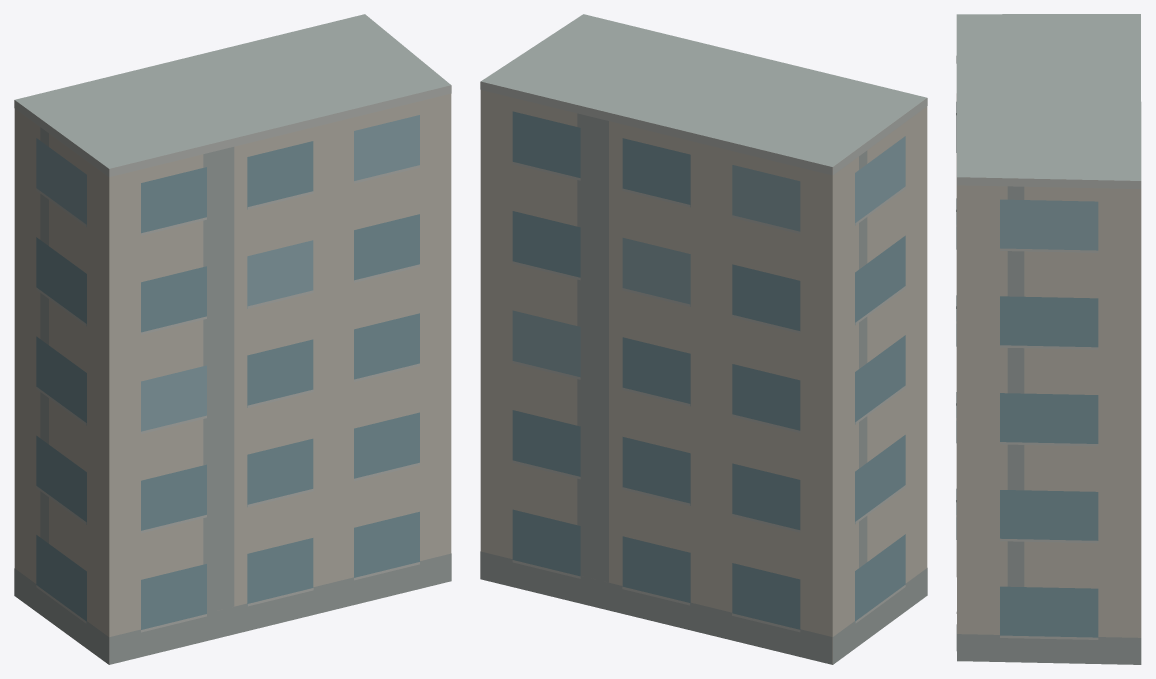
File: survey-upis-32729621.glb
3 renders of one model, left to right at view 1: azimuth 30°, elevation 25°; view 2: azimuth 150°, elevation 25°; view 3: azimuth 270°, elevation 25°, orthographic. The views are drawn at different scales.
Visible parts, largest first — view 1: survey-upis-32729621.tmp; view 2: survey-upis-32729621.tmp; view 3: survey-upis-32729621.tmp.
Boxes of the visible parts, x1,y1,x2,y2 form: survey-upis-32729621.tmp: (14,14,451,664); survey-upis-32729621.tmp: (480,14,927,664); survey-upis-32729621.tmp: (956,14,1141,664).
Size of the model in its own units: 10.75 by 14.5 by 5.04.
